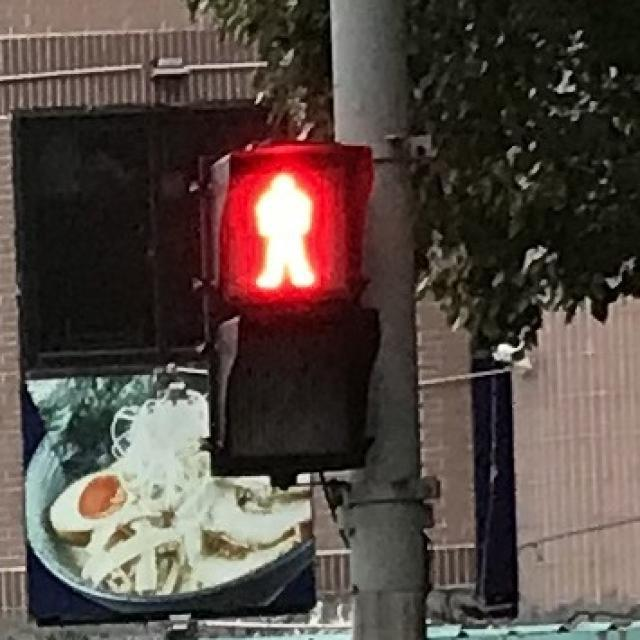red_light: (218, 157, 352, 294)
